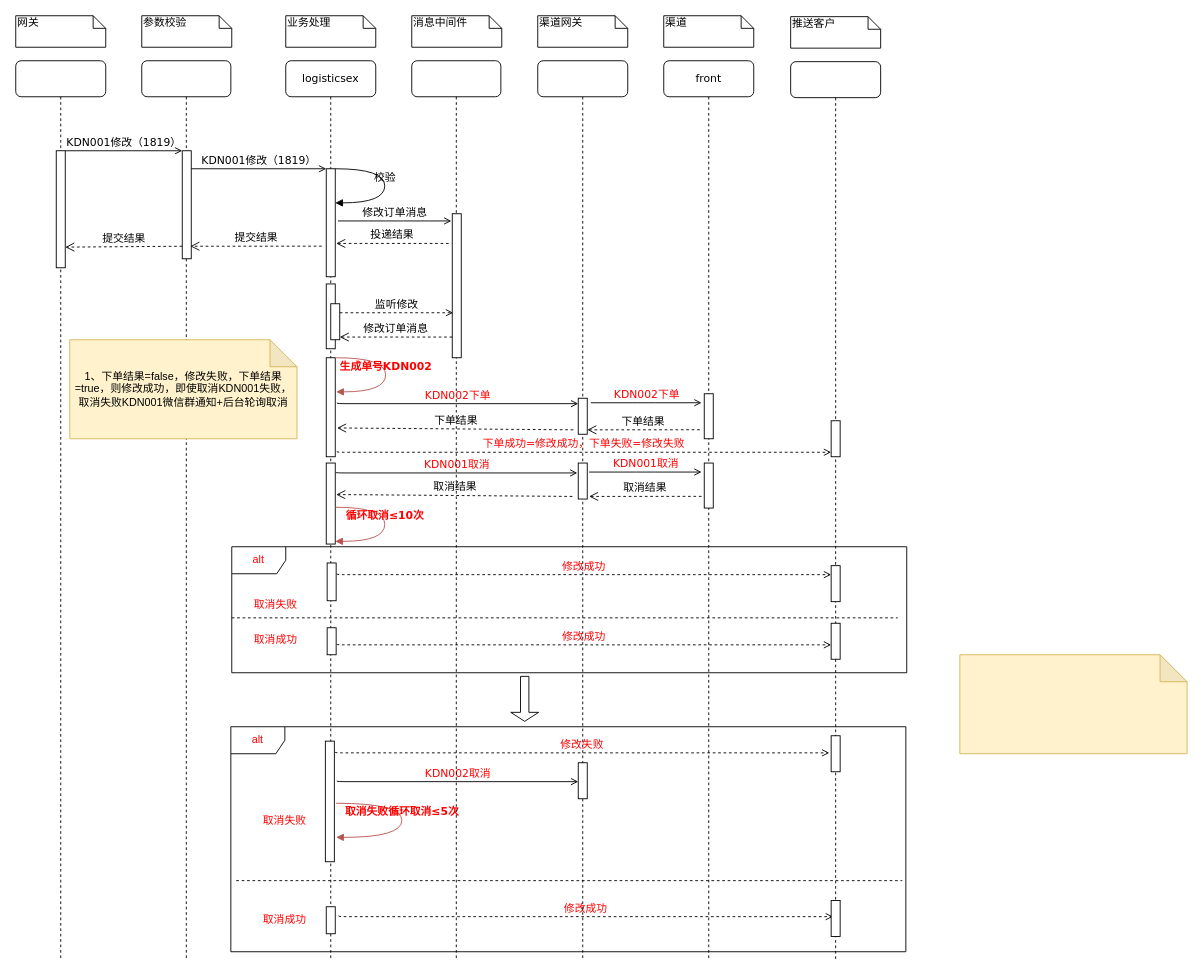
Image size: 1203x977. Some labels were removed from this diagram. Here are the shapes that lost their labels. From the top down, the box of each, then its label:
(15, 60, 106, 961): openapi
(141, 60, 231, 961): kdniaoprod
(411, 60, 501, 961): Kafka
(537, 60, 628, 961): gw
(790, 61, 881, 962): onlinerecord
(959, 654, 1187, 754): 1、改动点：取消失败则返回修改结果为失败，并且取消原订单
